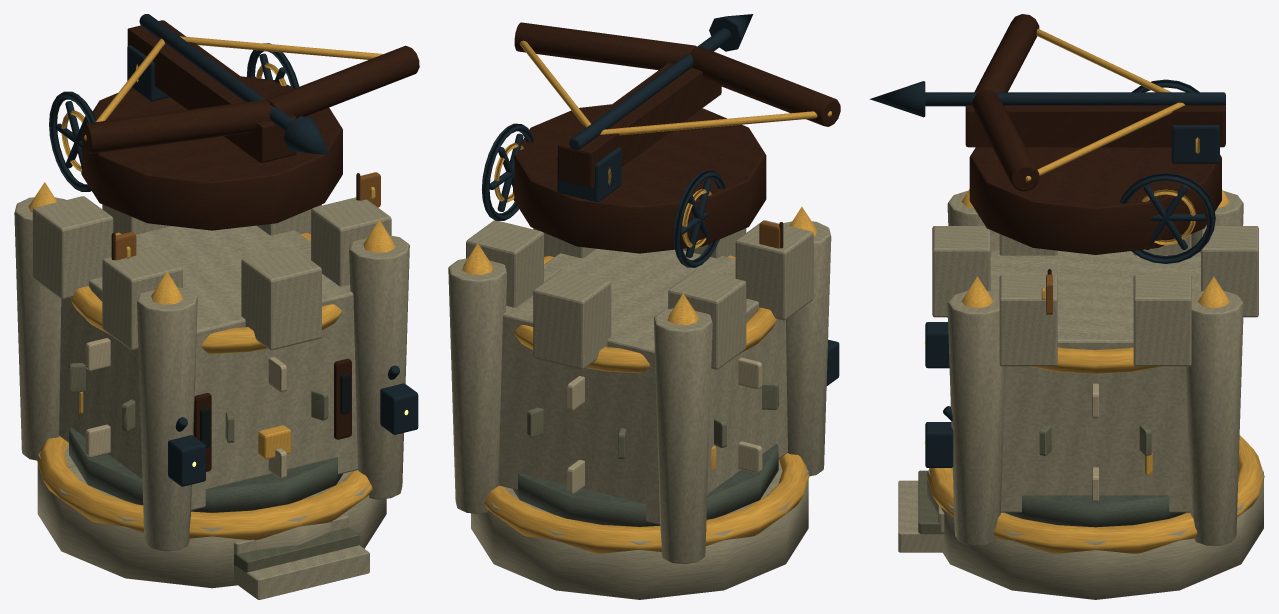
The model's file is tower-ballista-3-base.glb.
3 views of the same model, side by side, from view 1: azimuth 30°, elevation 25°; view 2: azimuth 150°, elevation 25°; view 3: azimuth 270°, elevation 25° (orthographic). The views are drawn at different scales.
Parts seen in each view (by area): view 1: Foundation, Turret, ballista-L3-base; view 2: Foundation, Turret, ballista-L3-base; view 3: Foundation, Turret, ballista-L3-base.
Boxes of the visible parts, x1,y1,x2,y2 form: Foundation: [14, 172, 418, 599]; Turret: [49, 14, 419, 230]; ballista-L3-base: [37, 427, 386, 588]; Foundation: [448, 206, 839, 564]; Turret: [481, 14, 840, 267]; ballista-L3-base: [471, 444, 808, 599]; Foundation: [898, 189, 1264, 553]; Turret: [869, 14, 1225, 263]; ballista-L3-base: [927, 467, 1263, 599].
Size of the model in its own units: 1.83 by 2.47 by 1.97.
Materials: 13 (13 with a texture image).
